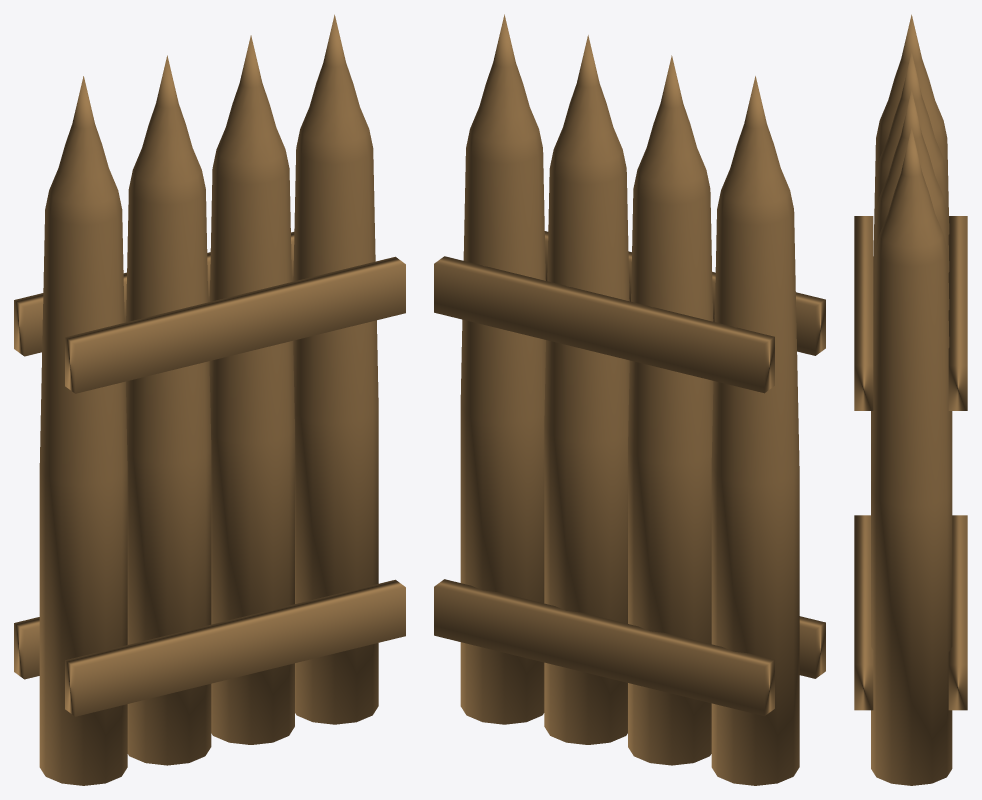
Rendered from estaca_madeira_grupo.fbx.
The picture shows the model from 3 angles, left to right: view 1: azimuth 30°, elevation 25°; view 2: azimuth 150°, elevation 25°; view 3: azimuth 270°, elevation 25°; orthographic projection. The views are drawn at different scales.
Visible parts, largest first — view 1: estaca_solo.001, Cube.009, Cube.008, Cube.011, Cube.010; view 2: estaca_solo.001, Cube.011, Cube.010, Cube.009, Cube.008; view 3: estaca_solo.001, Cube.009, Cube.011, Cube.008, Cube.010.
Boxes of the visible parts, left/top/right/bottom form: estaca_solo.001: left=39, top=14, right=378, bottom=785; Cube.009: left=65, top=256, right=405, bottom=393; Cube.008: left=65, top=579, right=405, bottom=716; Cube.011: left=14, top=232, right=294, bottom=356; Cube.010: left=14, top=617, right=39, bottom=679; estaca_solo.001: left=460, top=14, right=799, bottom=785; Cube.011: left=434, top=256, right=774, bottom=393; Cube.010: left=434, top=579, right=774, bottom=716; Cube.009: left=544, top=231, right=825, bottom=355; Cube.008: left=799, top=616, right=825, bottom=678; estaca_solo.001: left=871, top=14, right=952, bottom=785; Cube.009: left=854, top=216, right=873, bottom=410; Cube.011: left=948, top=216, right=967, bottom=410; Cube.008: left=854, top=515, right=873, bottom=710; Cube.010: left=948, top=515, right=967, bottom=710.
Size of the model in its own units: 520 by 1042 by 167.
